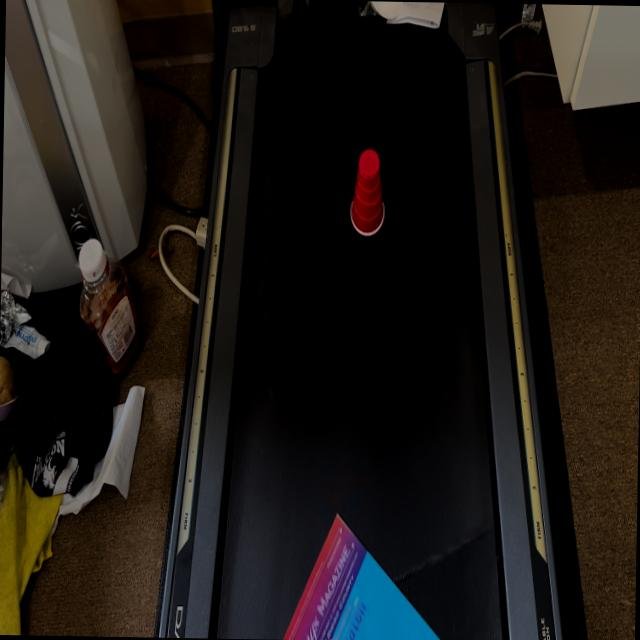Recycle: (283, 505, 441, 640), (348, 145, 388, 243)
